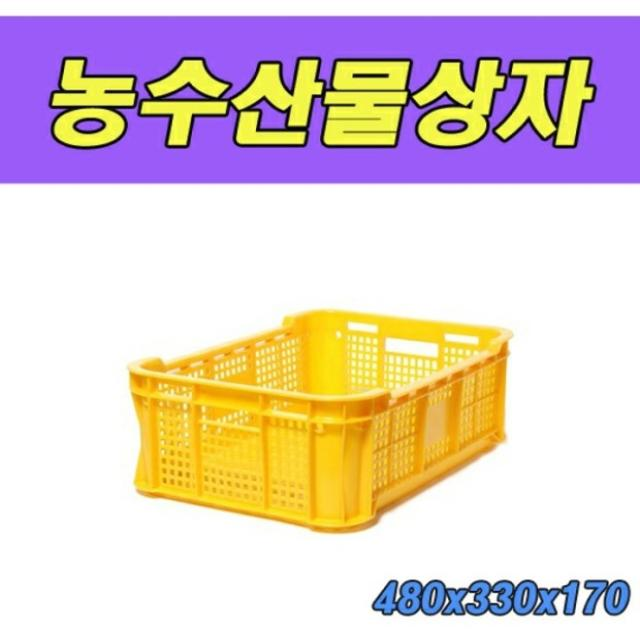basket: (121, 301, 511, 540)
